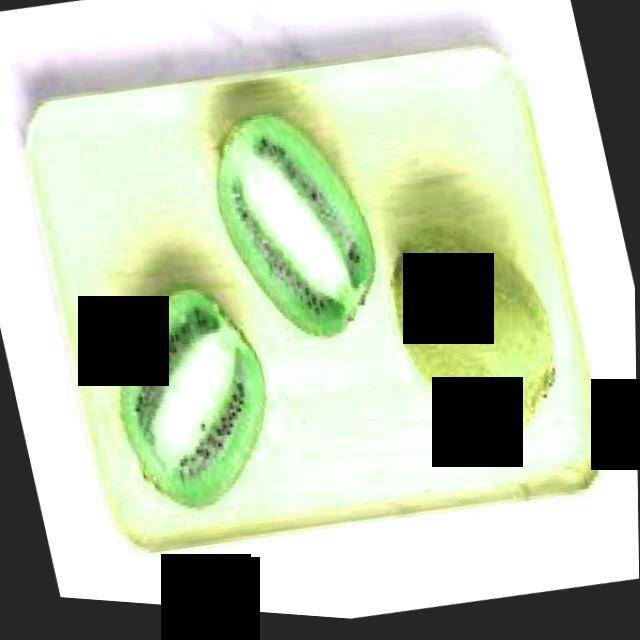kiwi: (382, 213, 578, 464)
